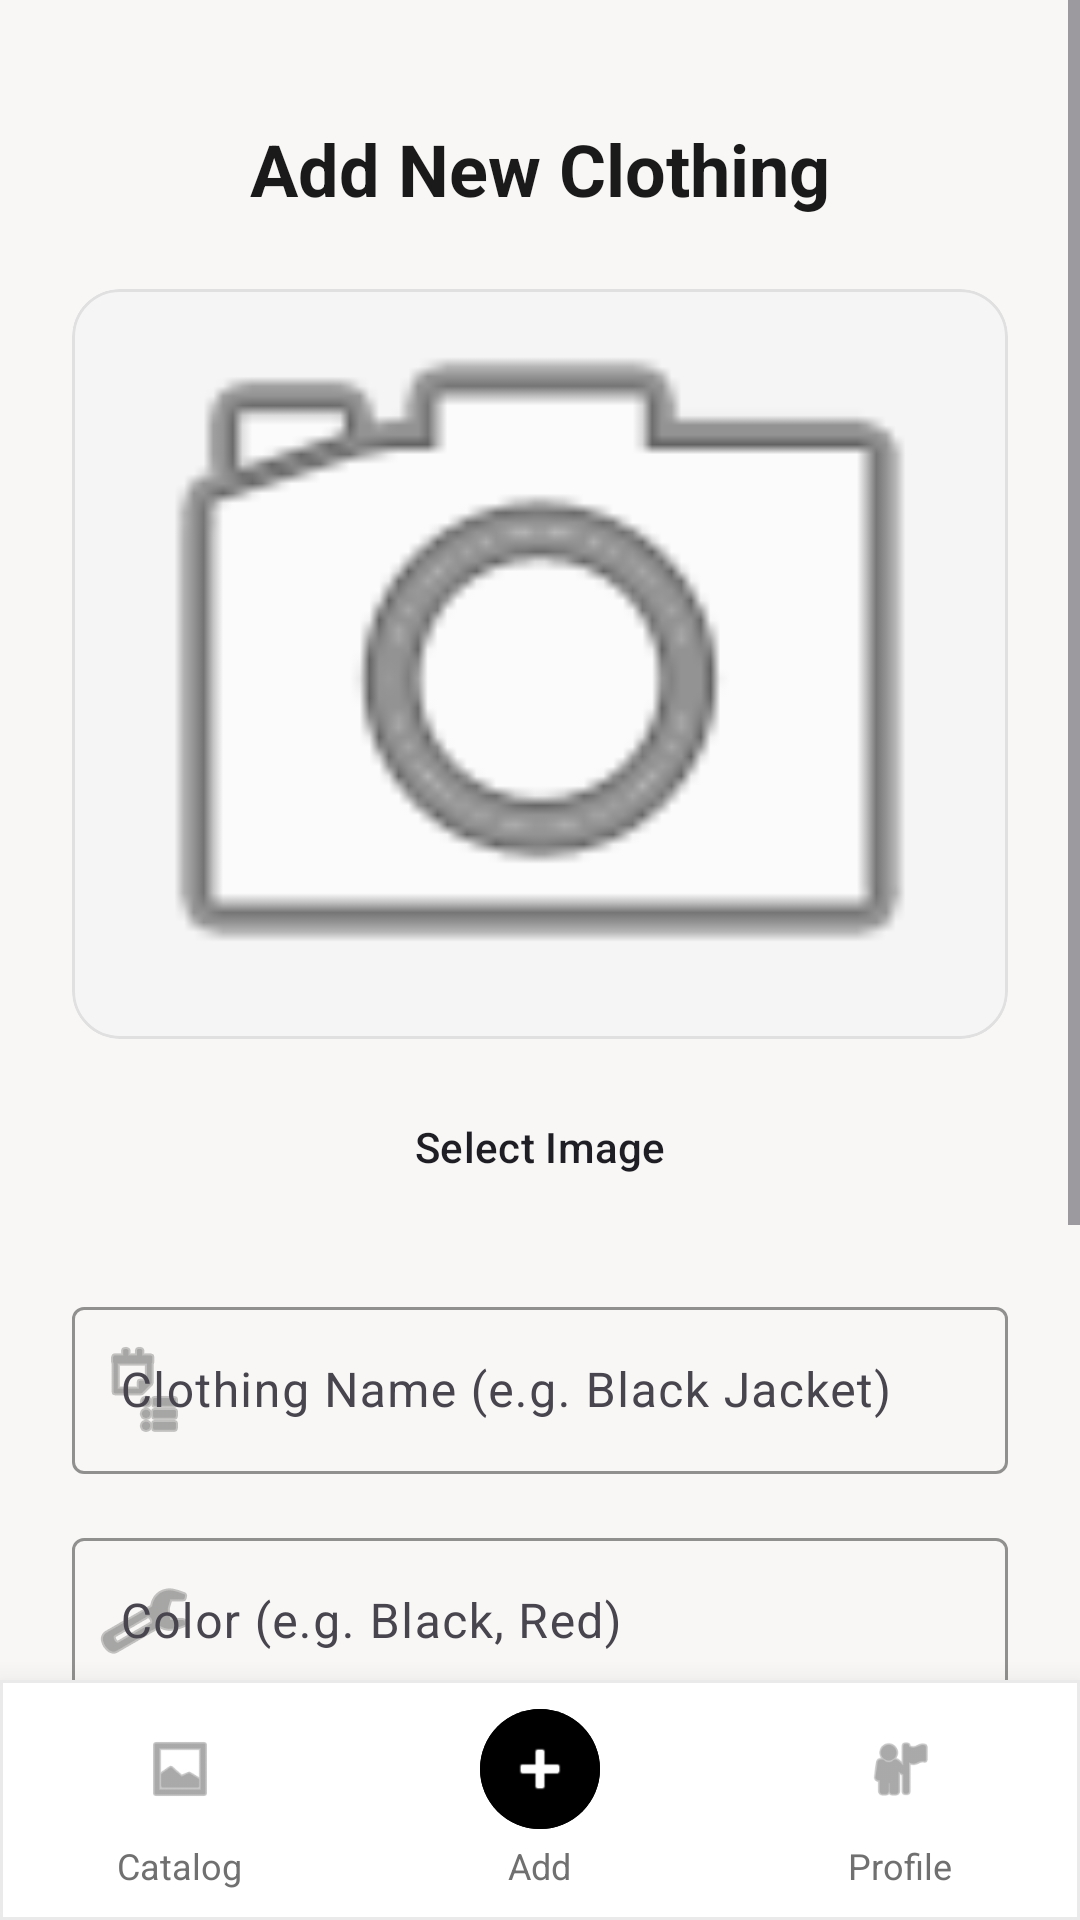

Icons on this 1080x1920 Android screen, each with its box as bbox=[x1, y1, x2, y2]:
Add Clothing: bbox=[480, 1709, 600, 1829]
